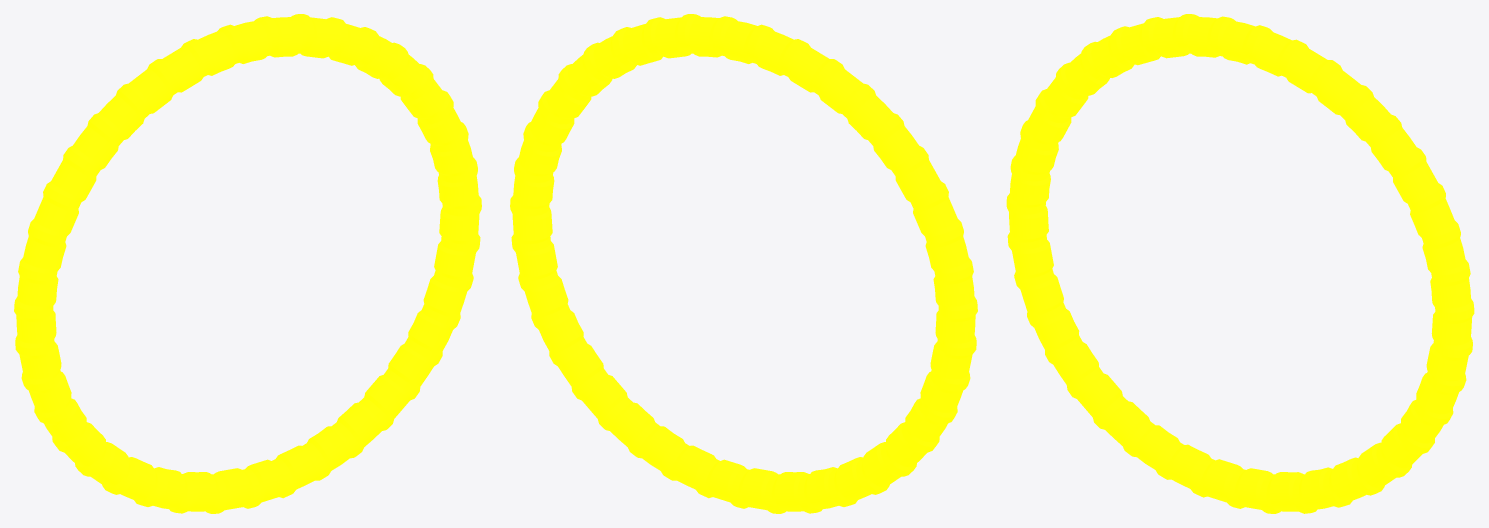
The model's file is TargetTest.fbx.
The picture shows the model from 3 angles, left to right: view 1: azimuth 30°, elevation 25°; view 2: azimuth 150°, elevation 25°; view 3: azimuth 330°, elevation 25°; orthographic projection.
Visible parts, largest first — view 1: Cylinder; view 2: Cylinder; view 3: Cylinder.
Part boxes in pixels (left/top/right/bottom): Cylinder: left=14, top=14, right=481, bottom=513; Cylinder: left=510, top=14, right=977, bottom=513; Cylinder: left=1006, top=14, right=1474, bottom=513.
Size of the model in its own units: 218 by 218 by 16.12.
